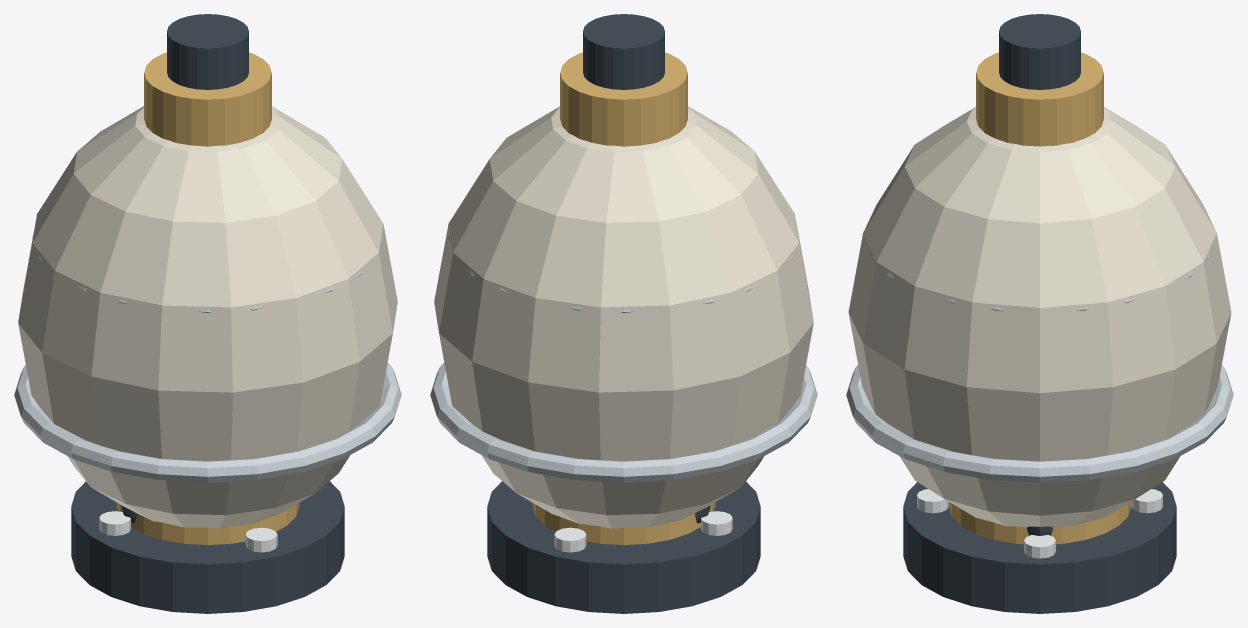
File: propellant_tank.glb
3 views of the same model, side by side, from view 1: azimuth 30°, elevation 25°; view 2: azimuth 150°, elevation 25°; view 3: azimuth 270°, elevation 25° (orthographic).
Visible parts, largest first — view 1: Tank_Vessel, Mount_Flange, Tank_Band_Lower, Top_Neck, Valve, Mount_Collar, Mount_Bolt_003, Mount_Bolt_002; view 2: Tank_Vessel, Mount_Flange, Tank_Band_Lower, Top_Neck, Valve, Mount_Collar, Mount_Bolt_001, Mount_Bolt_002; view 3: Tank_Vessel, Mount_Flange, Tank_Band_Lower, Top_Neck, Valve, Mount_Collar, Mount_Bolt, Mount_Bolt_001, Mount_Bolt_003.
Boxes of the visible parts, x1,y1,x2,y2 form: Tank_Vessel: (18,106,397,528); Mount_Flange: (71,481,344,613); Tank_Band_Lower: (14,363,401,482); Top_Neck: (144,52,271,146); Valve: (167,14,248,89); Mount_Collar: (116,502,299,544); Mount_Bolt_003: (245,527,277,552); Mount_Bolt_002: (99,511,130,535); Tank_Vessel: (434,106,813,528); Mount_Flange: (487,481,760,613); Tank_Band_Lower: (430,363,817,482); Top_Neck: (560,52,687,146); Valve: (583,14,664,89); Mount_Collar: (532,502,715,544); Mount_Bolt_001: (554,527,586,552); Mount_Bolt_002: (701,511,732,535); Tank_Vessel: (848,107,1231,527); Mount_Flange: (903,482,1176,613); Tank_Band_Lower: (846,365,1233,482); Top_Neck: (976,52,1103,146); Valve: (999,14,1080,89); Mount_Collar: (948,502,1131,544); Mount_Bolt: (1024,535,1055,558); Mount_Bolt_001: (1131,489,1162,513); Mount_Bolt_003: (917,489,948,513).
Size of the model in its own units: 0.85 by 1.27 by 0.85.
